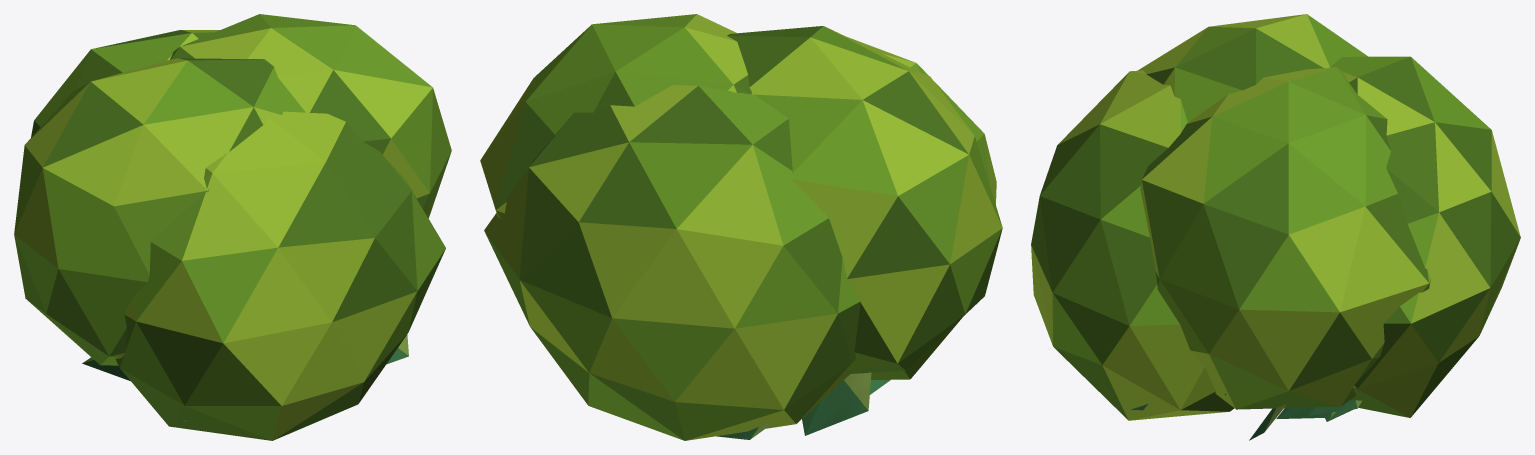
Rendered from kit_shrub.glb.
3 views of the same model, side by side, from view 1: azimuth 30°, elevation 25°; view 2: azimuth 150°, elevation 25°; view 3: azimuth 270°, elevation 25° (orthographic). The views are drawn at different scales.
Visible parts, largest first — view 1: Leaf cluster, Leaf cluster.002, Leaf cluster.001, Leaf cluster.003; view 2: Leaf cluster.003, Leaf cluster.002, Leaf cluster.001, Woodland shared curved ivy leaf.042, Leaf cluster; view 3: Leaf cluster.001, Leaf cluster, Leaf cluster.003, Leaf cluster.002.
Part boxes in pixels (x1,y1,x2,y2): Leaf cluster: (115, 111, 445, 440); Leaf cluster.002: (14, 58, 305, 365); Leaf cluster.001: (170, 14, 451, 218); Leaf cluster.003: (31, 30, 219, 137); Leaf cluster.003: (484, 85, 860, 440); Leaf cluster.002: (727, 26, 1002, 373); Leaf cluster.001: (480, 14, 751, 218); Woodland shared curved ivy leaf.042: (802, 372, 871, 435); Leaf cluster: (847, 37, 996, 379); Leaf cluster.001: (1140, 67, 1430, 409); Leaf cluster: (1031, 70, 1234, 420); Leaf cluster.003: (1330, 56, 1520, 417); Leaf cluster.002: (1138, 14, 1367, 122).
Size of the model in its own units: 0.7984 by 0.6374 by 0.7898.
5 materials, 2 textured.
